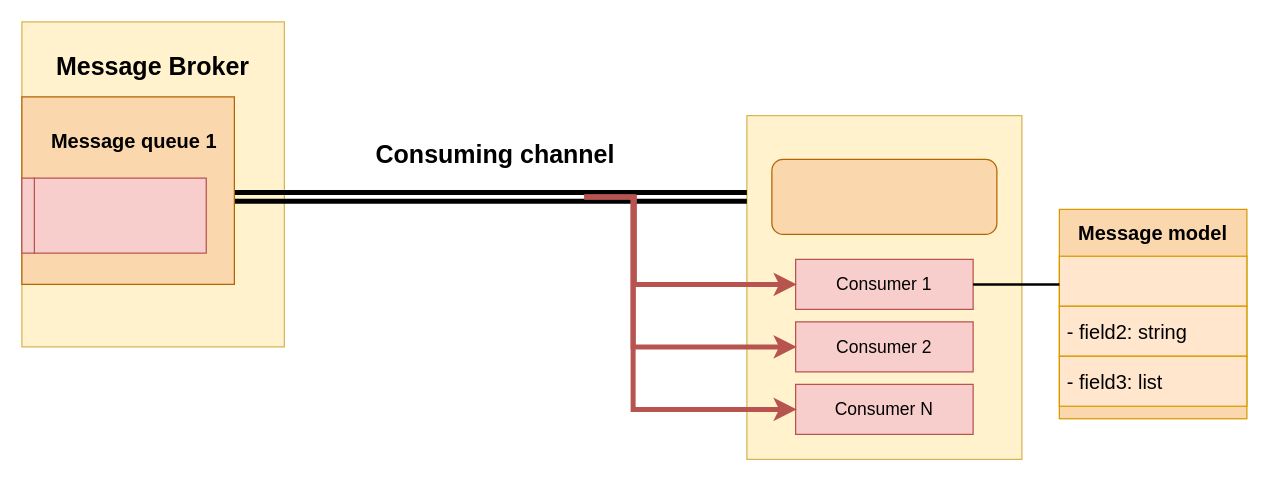
Image size: 1269x481. Some labels were removed from this diagram. The centre of each missing label's shape, as x and y in pixels:
"- field1: integer" belongs at point (1152, 280).
"message 1" belongs at point (119, 215).
"Service 1" belongs at point (884, 196).
